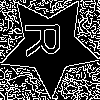R: (24, 20, 70, 58)
